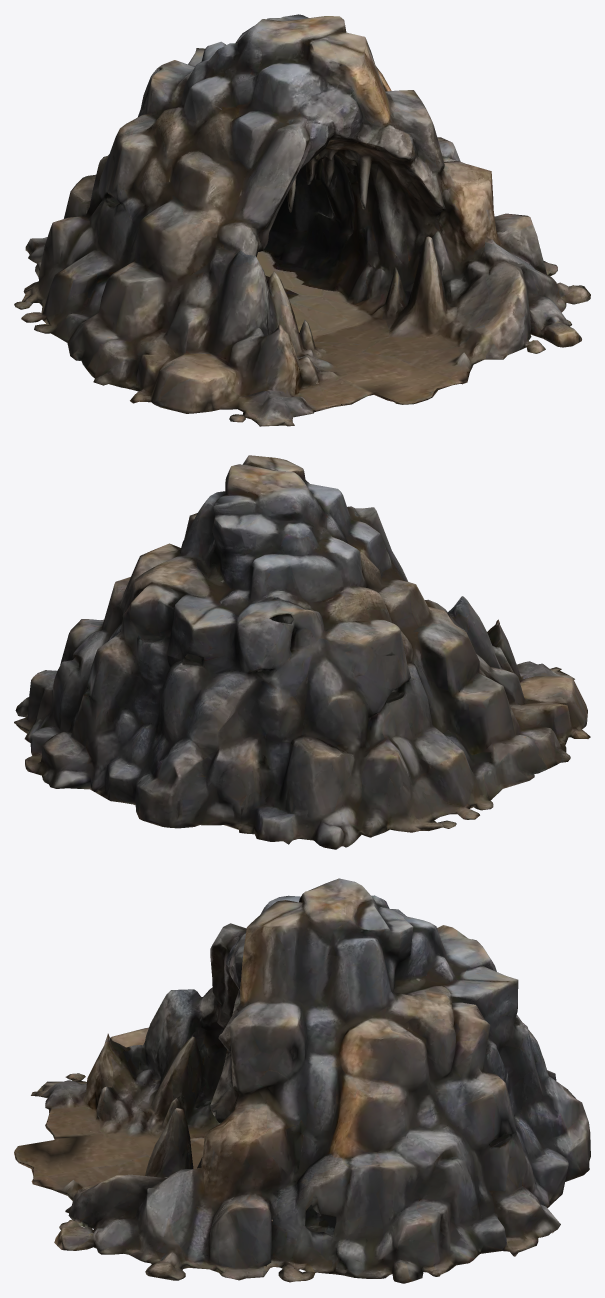
The model's file is cave_mouth.glb.
The picture shows the model from 3 angles, top to bottom: view 1: azimuth 30°, elevation 25°; view 2: azimuth 150°, elevation 25°; view 3: azimuth 270°, elevation 25°; orthographic projection. The views are drawn at different scales.
Bounding box in the file's own units: 1.99 × 1.07 × 2.
1 material, 1 textured.
